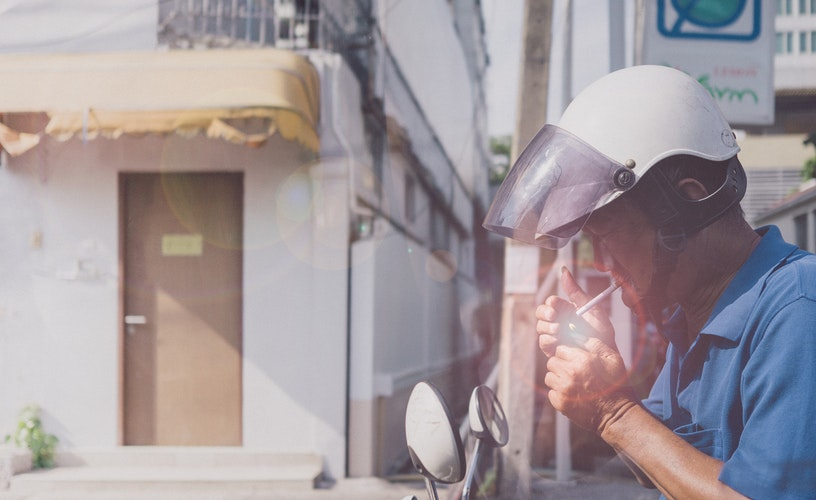helmet: (521, 64, 710, 204)
